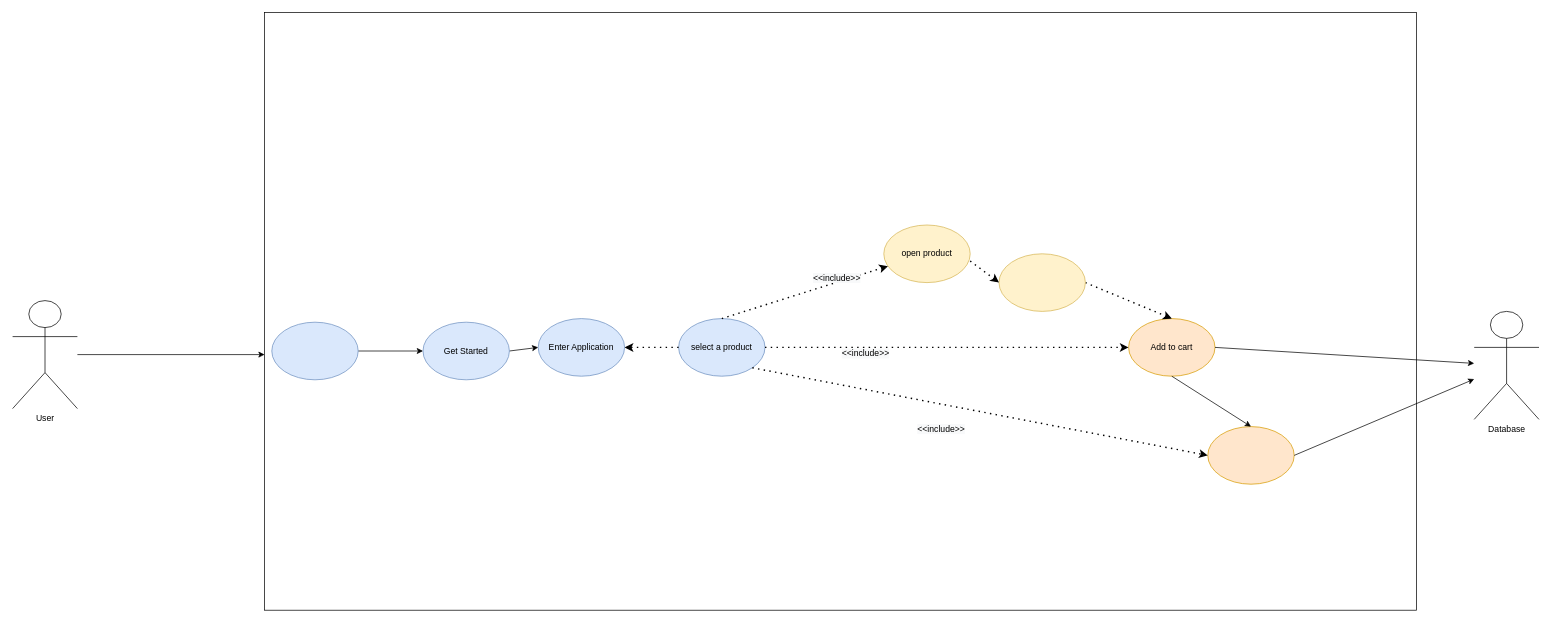
Some shapes in this 1552 by 623 pixel diagram are drawn without their labels. The centre of each missing label's shape, as x and y in pixels:
open description: (x=1041, y=282)
place order: (x=1250, y=455)
Welcome page: (x=314, y=350)
